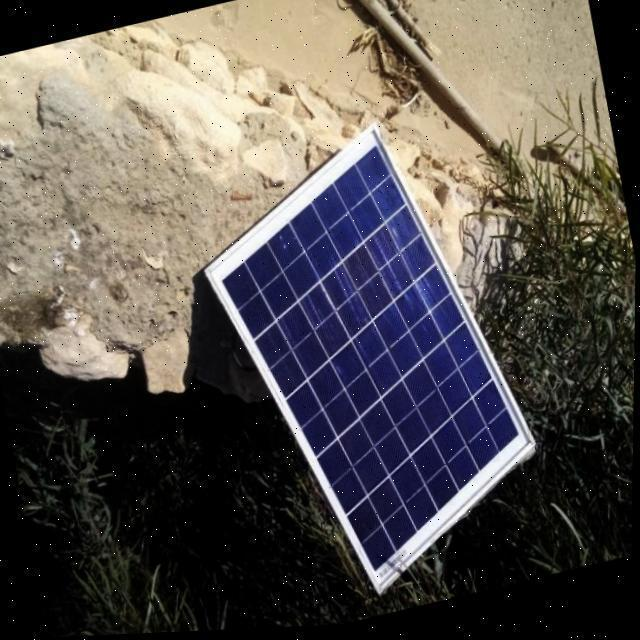Normal Solar Panel: (180, 100, 562, 626)
